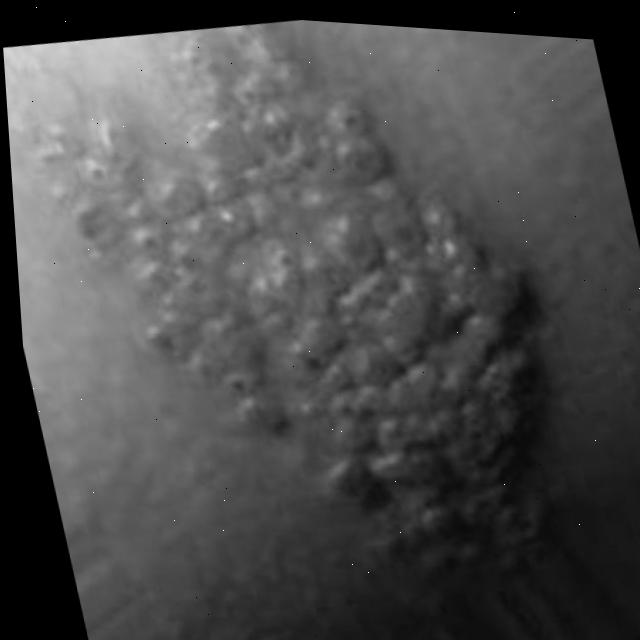Shingles: (0, 0, 583, 623)
